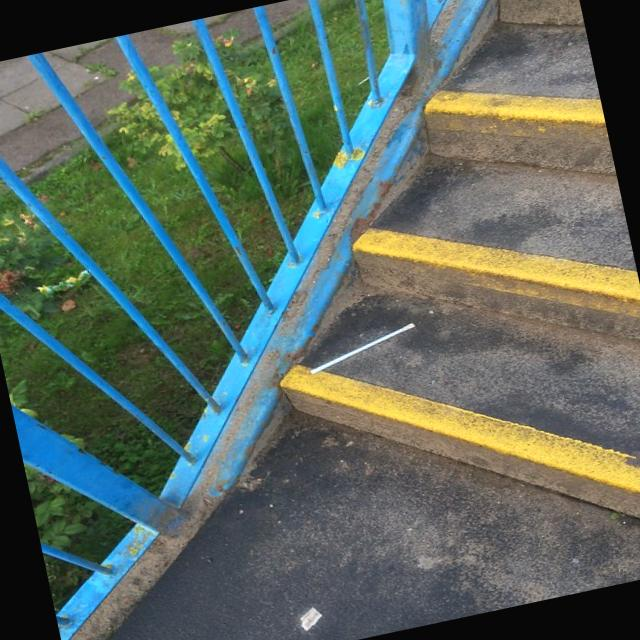Trash: (296, 310, 425, 378), (36, 266, 98, 305), (298, 606, 333, 630)
